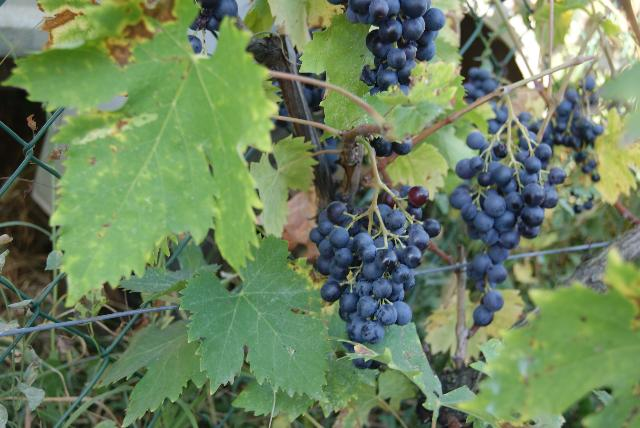grapes: (450, 132, 565, 326), (310, 188, 439, 344)
